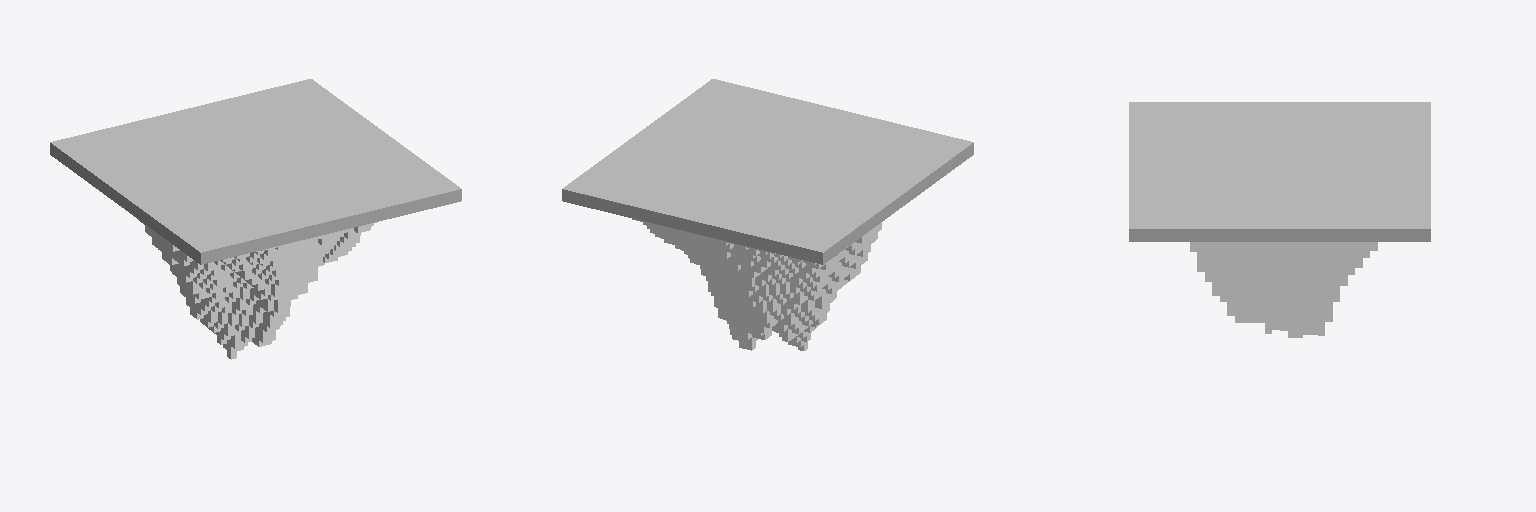
3 renders of one model, left to right at view 1: azimuth 30°, elevation 25°; view 2: azimuth 150°, elevation 25°; view 3: azimuth 270°, elevation 25°, orthographic.
Visible parts, largest first — view 1: 平面; view 2: 平面; view 3: 平面.
Part boxes in pixels (bbox=[...]): 平面: bbox=[50, 79, 461, 359]; 平面: bbox=[562, 79, 973, 350]; 平面: bbox=[1129, 102, 1430, 337].
Size of the model in its own units: 7 by 4.63 by 7.